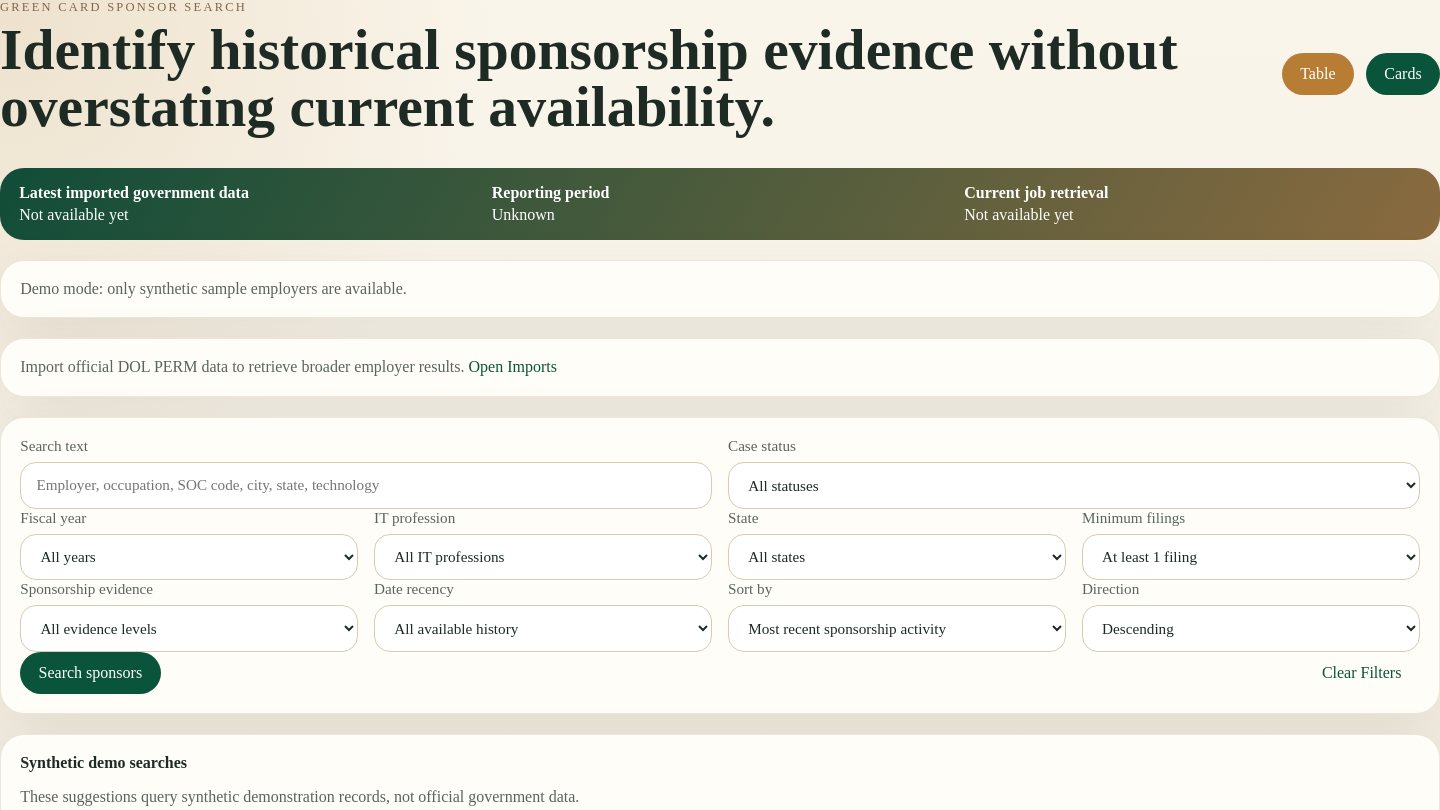
Scenario: api errors display a useful message
Type "Northwind" into the field with placeholder "Employer, occupation, SOC code, city, state, technology" at (366,485), box [20,462,712,508]
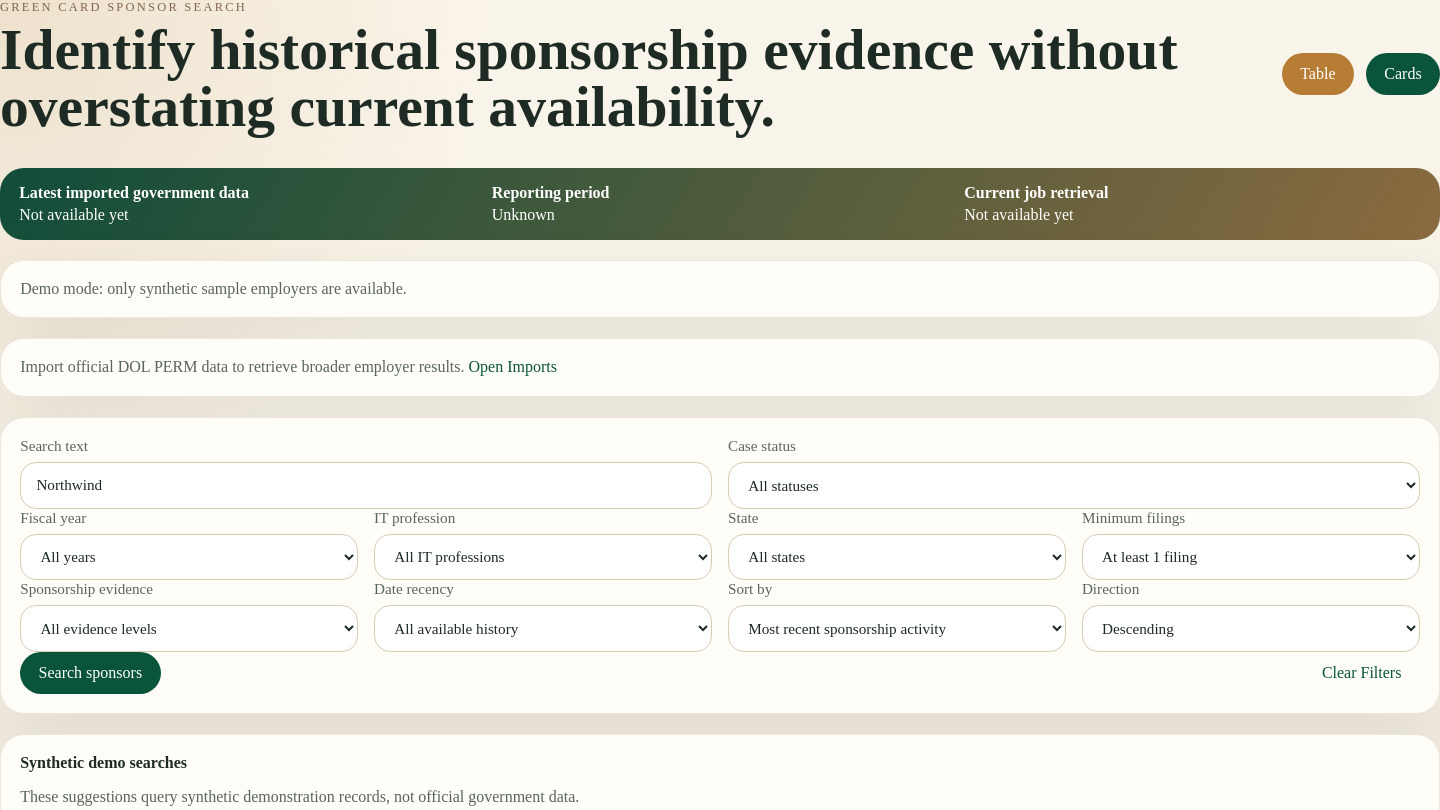
Click the button "Search sponsors" at (90,673), box [20,652,160,694]
(page scrolled)
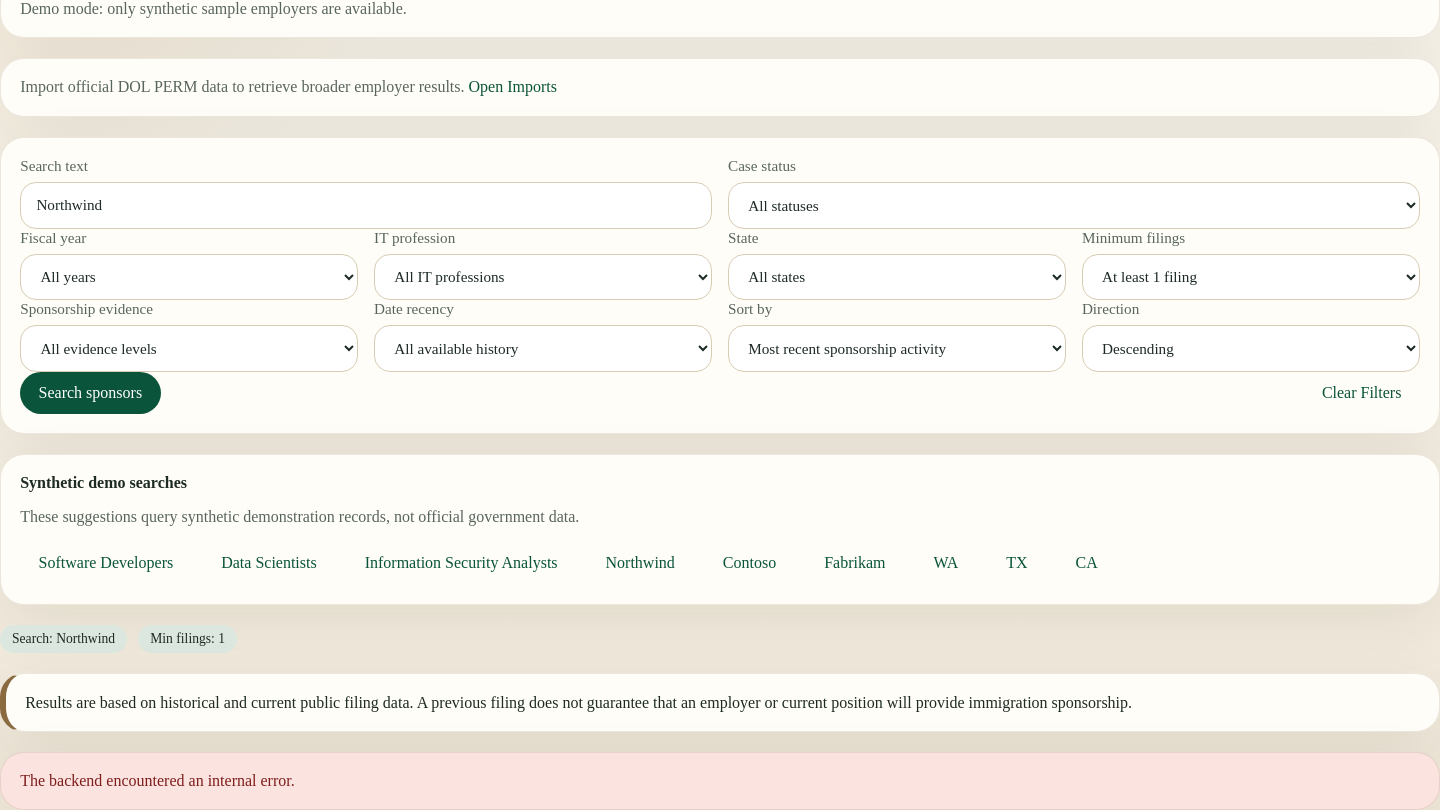
expect the text "The backend encountered an internal error." is shown: met, box [0,752,1439,809]
